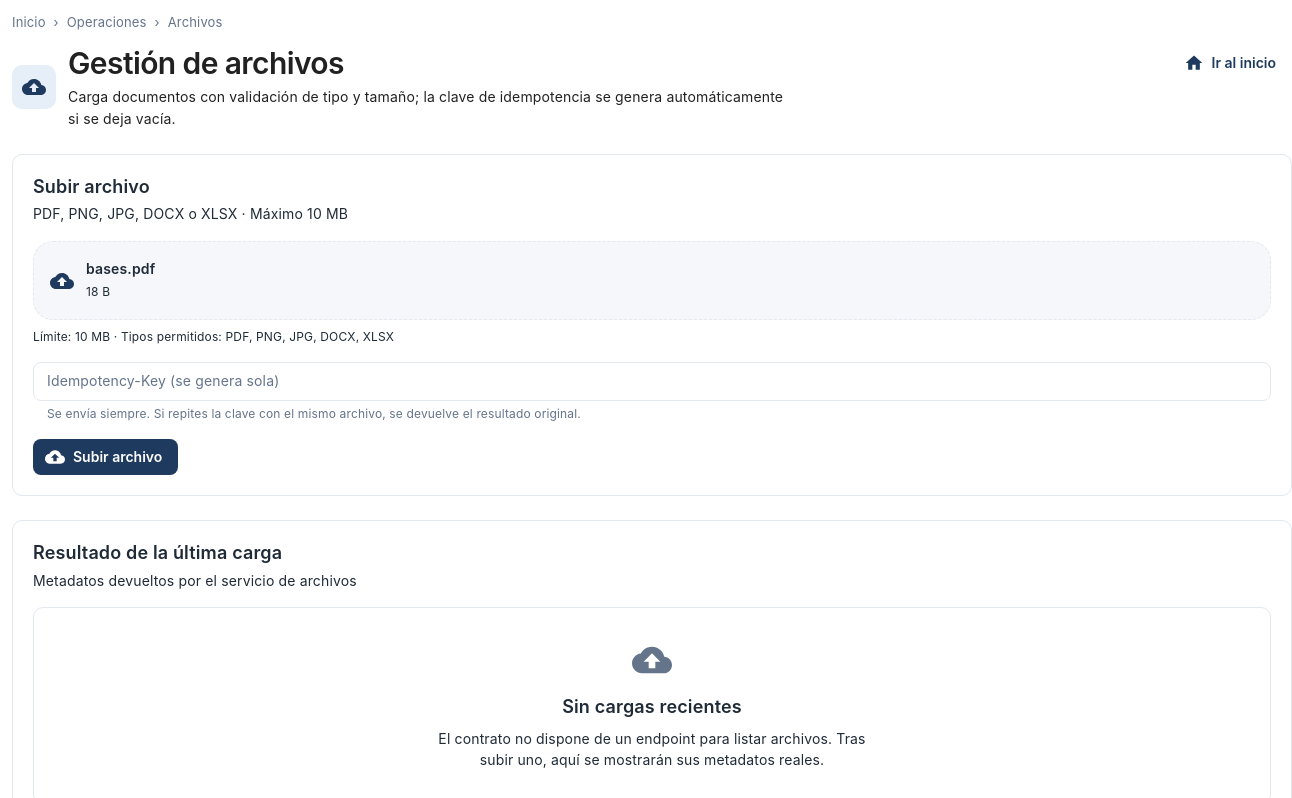
Scenario: Subida de archivos › rechaza el wrapper obsoleto con la clave "archivo"
Earlier steps of the test are not shown.
Click the button "Subir archivo": [106, 457] box [33,439,178,475]
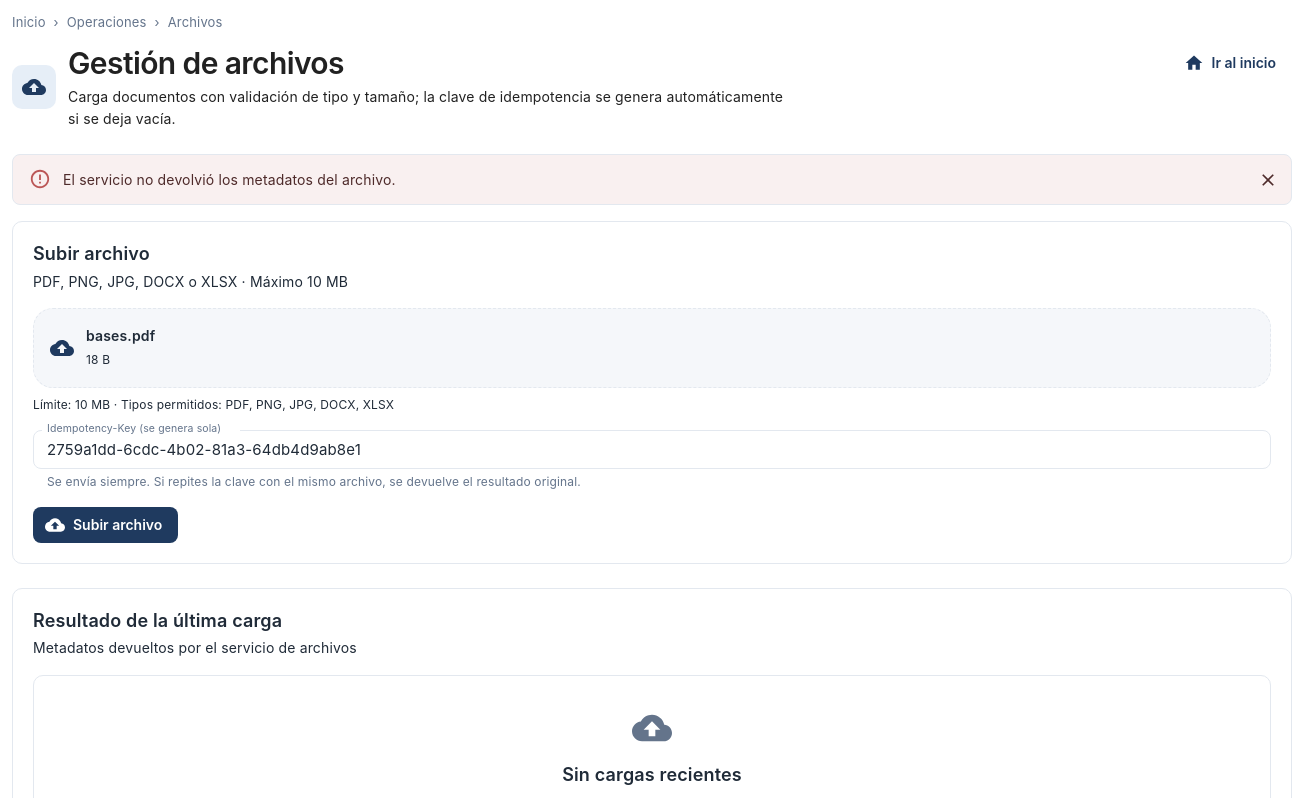
Expected: the message reads "El servicio no devolvió los metadatos del archivo.", [63,171,396,188]
